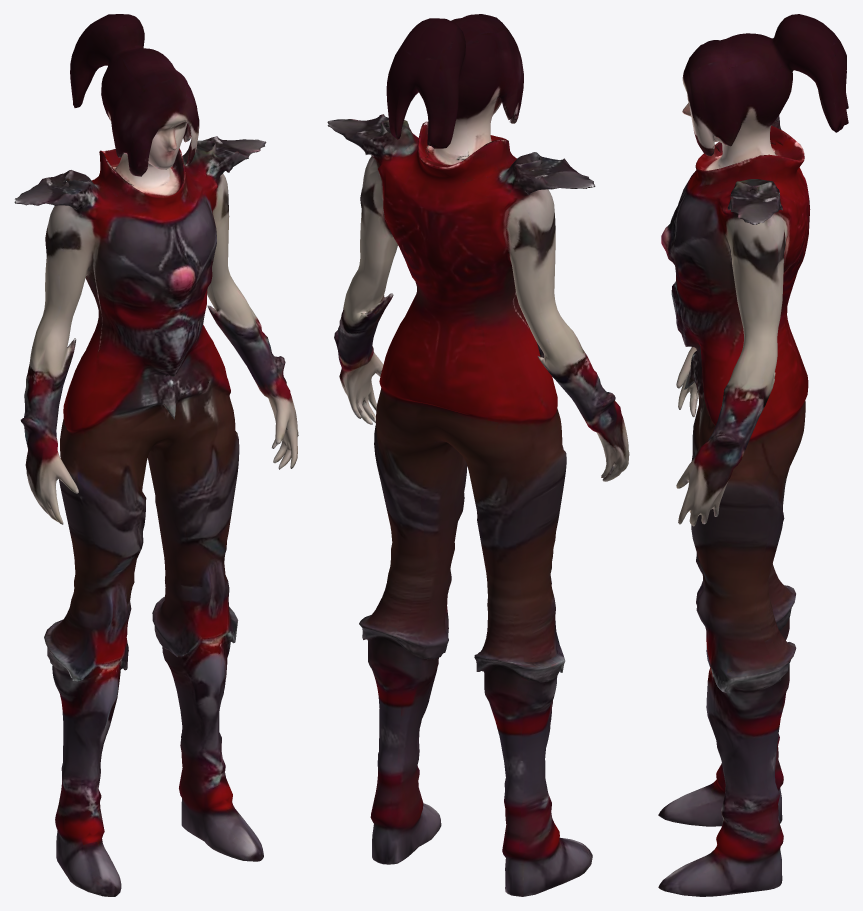
File: ignis-esquelio-female-warrior.glb
The picture shows the model from 3 angles, left to right: view 1: azimuth 30°, elevation 25°; view 2: azimuth 150°, elevation 25°; view 3: azimuth 270°, elevation 25°; orthographic projection. The views are drawn at different scales.
Parts seen in each view (by area): view 1: model; view 2: model; view 3: model.
Part boxes in pixels (box(x1,y1,x2,y2)): model: box(14, 14, 298, 896); model: box(327, 14, 629, 896); model: box(658, 14, 848, 896).
Bounding box in the file's own units: 0.639 × 1.9 × 0.3929.
1 material, 1 textured.
